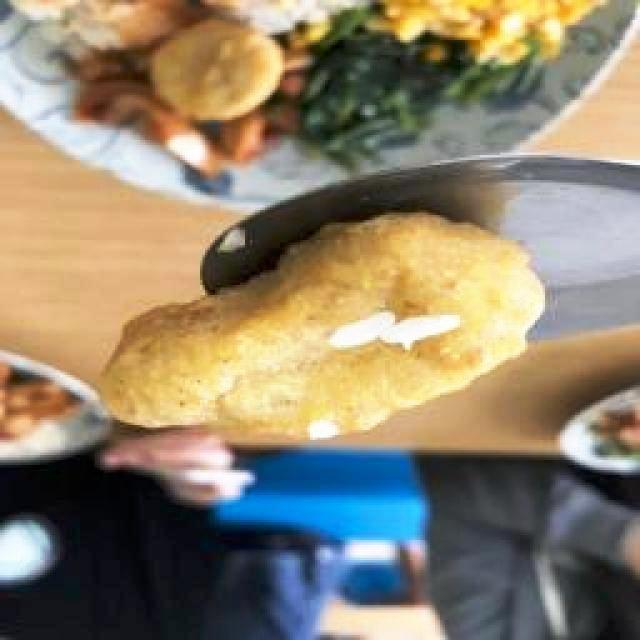chicken_nuggets: (99, 209, 546, 443)
